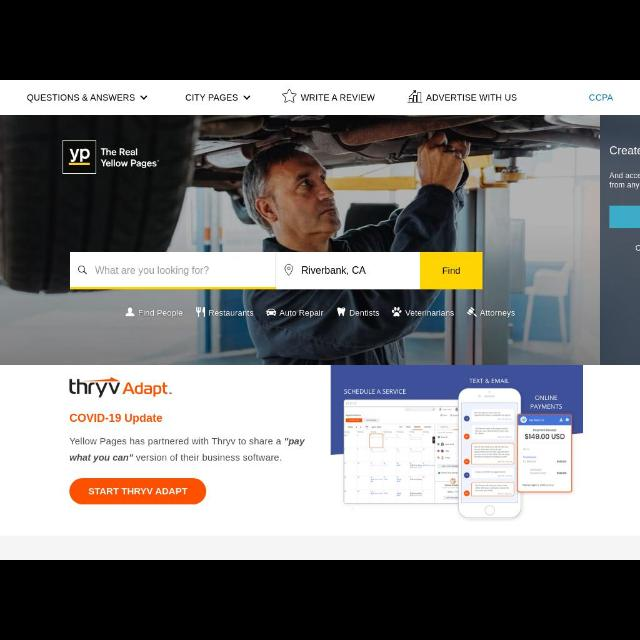icon: (282, 88, 296, 104), (408, 92, 422, 105), (391, 306, 404, 318), (467, 306, 478, 318), (78, 264, 88, 276), (284, 263, 294, 275), (195, 306, 205, 318), (266, 308, 276, 318), (336, 307, 346, 317), (126, 306, 134, 318), (242, 94, 250, 102), (139, 95, 149, 101)
image: (331, 365, 583, 519), (64, 140, 158, 174), (68, 375, 172, 399)
input: (71, 252, 275, 290)
spinner: (28, 92, 150, 105), (186, 93, 252, 103)
text: (69, 438, 305, 460), (94, 264, 210, 278), (69, 412, 165, 424), (26, 94, 134, 102), (302, 264, 368, 276), (302, 93, 376, 103), (427, 93, 518, 101), (88, 488, 188, 494), (608, 172, 640, 190), (185, 93, 238, 103), (405, 308, 455, 318), (280, 308, 324, 318), (607, 144, 639, 156), (481, 308, 517, 318), (139, 310, 183, 318), (210, 308, 254, 316), (350, 308, 380, 318), (588, 92, 614, 102), (440, 266, 460, 274)
textbutton: (70, 478, 206, 504), (421, 252, 483, 290)
toolbar: (1, 81, 639, 115)
